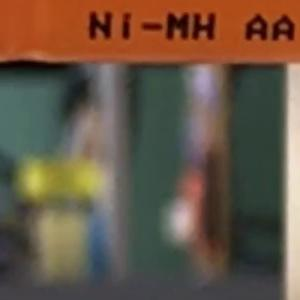keyword: (79, 4, 225, 49)
